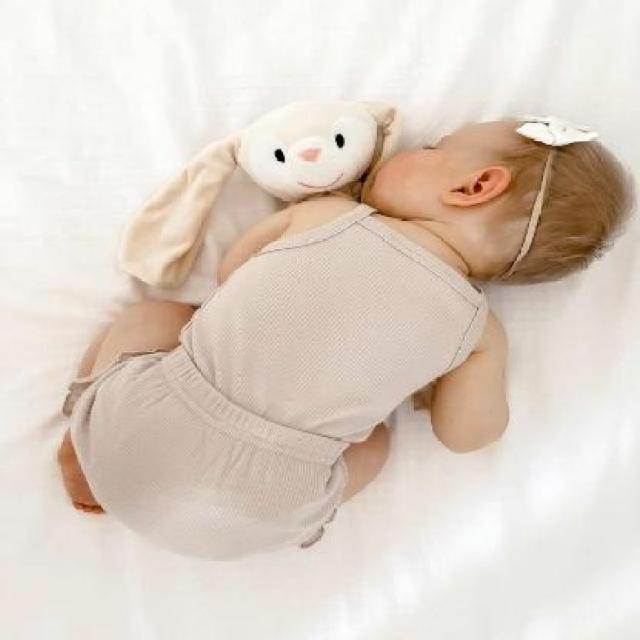baby: (50, 100, 636, 545)
